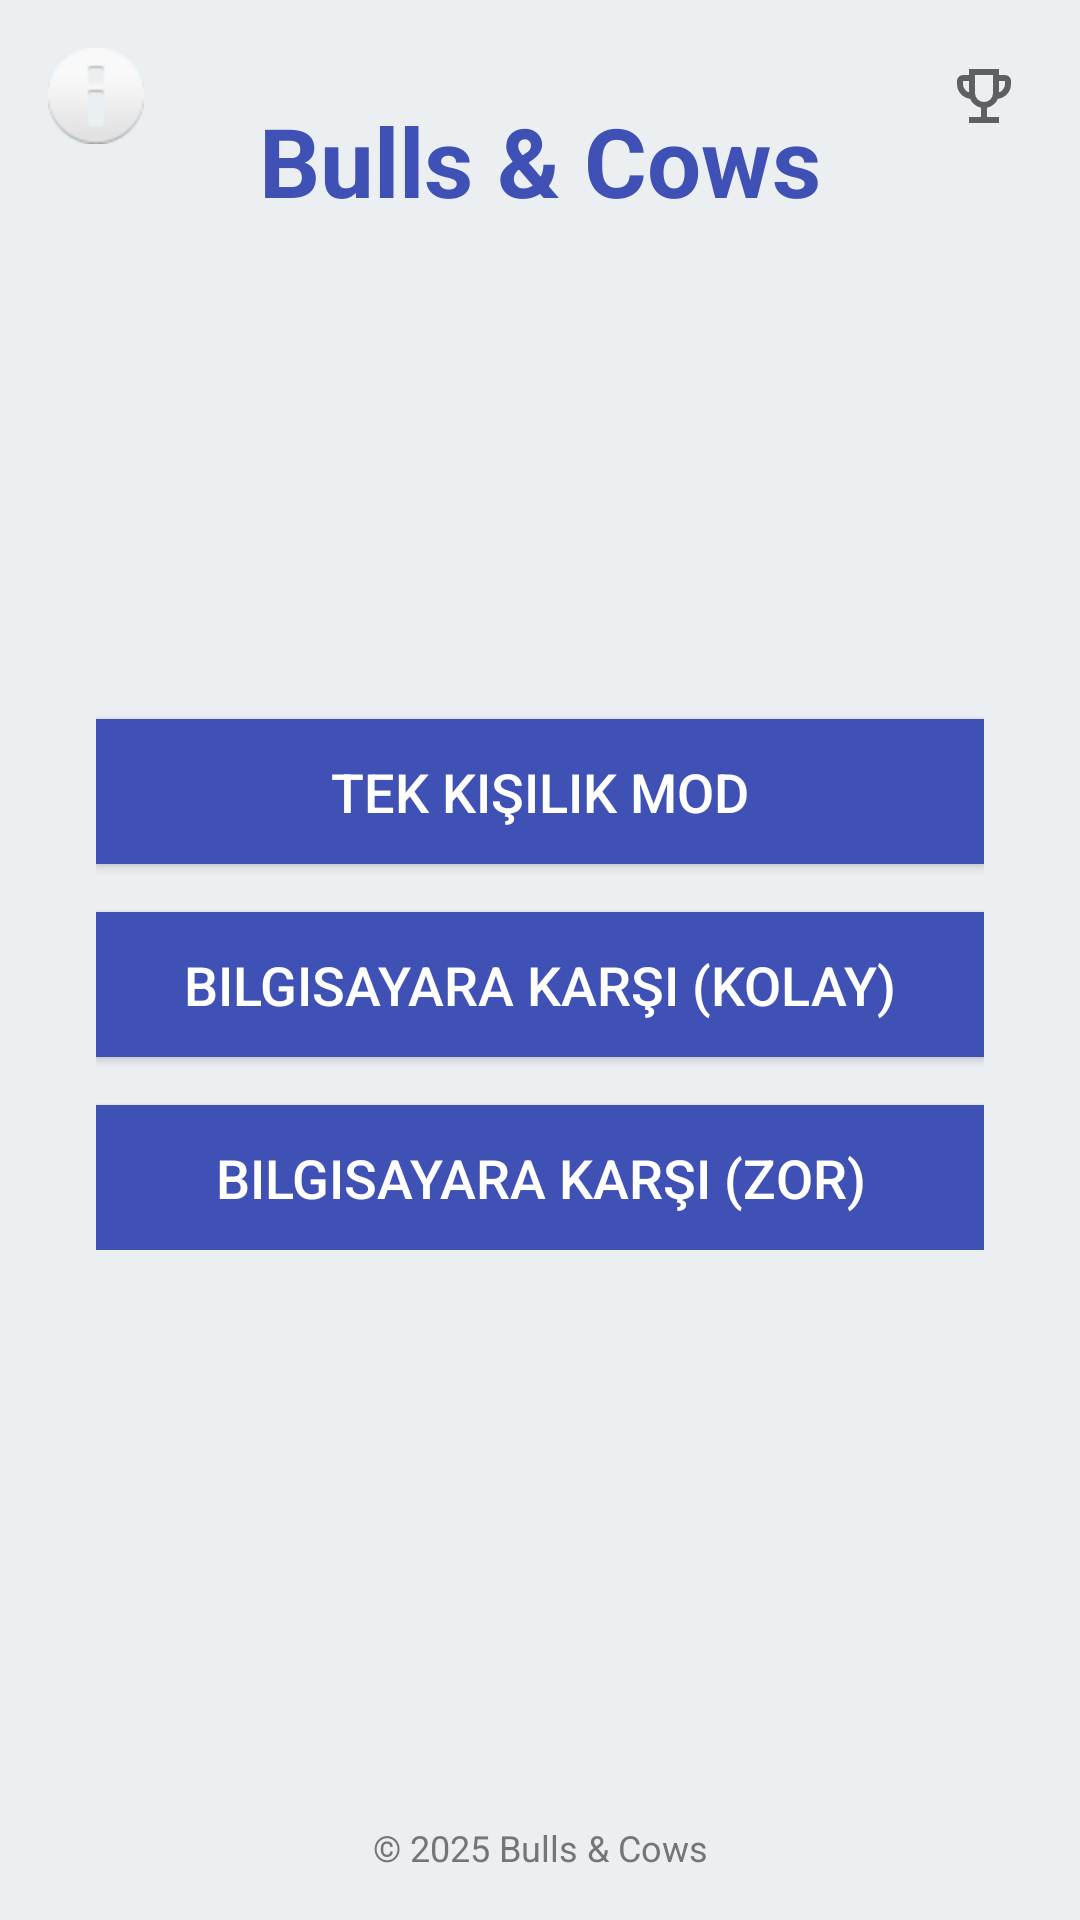

Named icons in this screenshot (1080w x 1920h) and their centers, point (x, y):
Bilgi: point (96, 105)
Yüksek Skorlar: point (984, 96)
